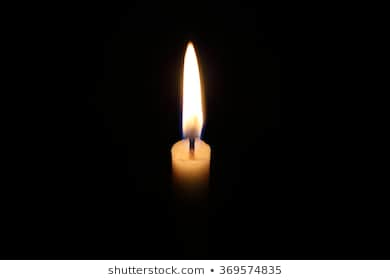Fire: (180, 39, 210, 141)
